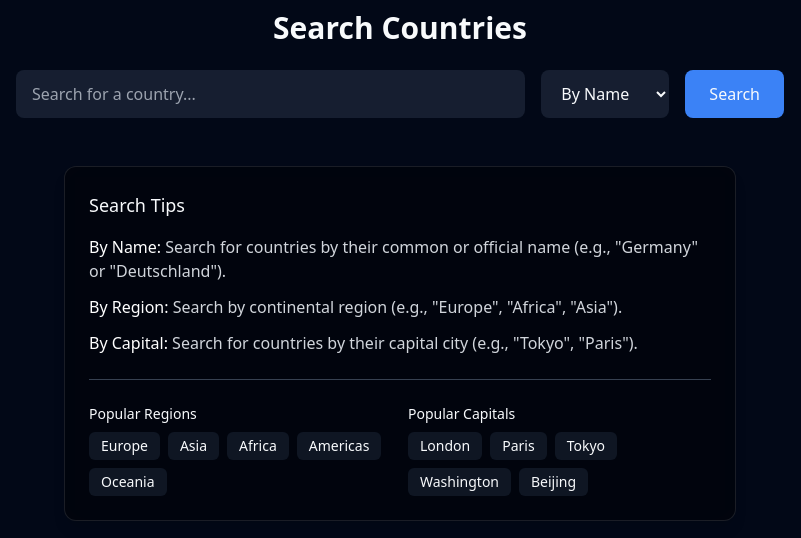
SearchPage › shows message for no results
Note: Set region and search
Type "Atlantis" into the field with placeholder "Search for a country..." at (271, 94), box x1=16 y1=70 x2=525 y2=118
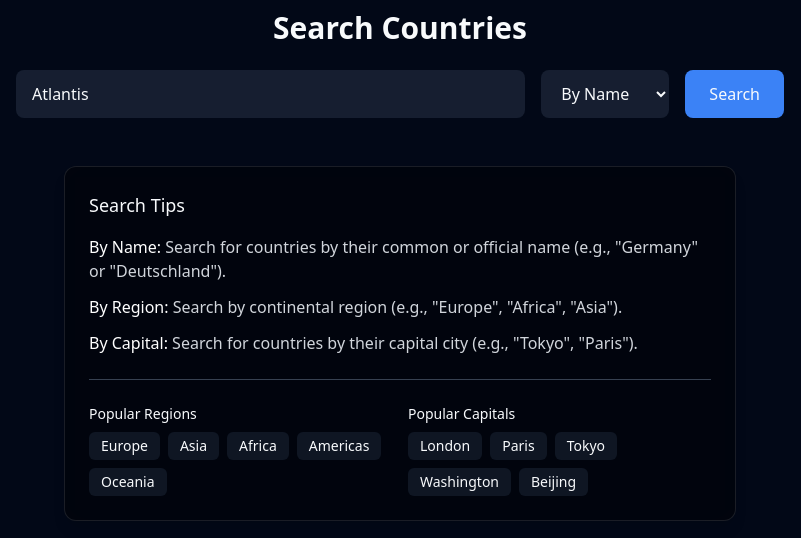
Select "By Region" in the dropdown showing "By Name" at (605, 94), box x1=541 y1=70 x2=669 y2=118
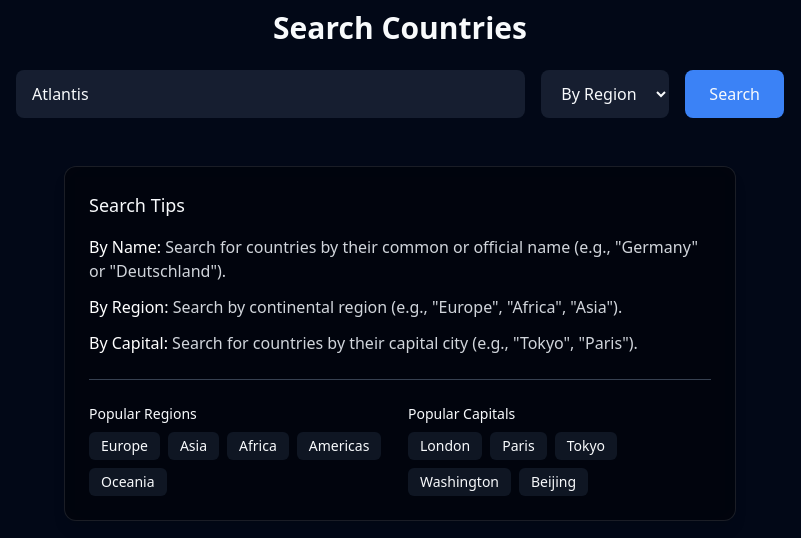
Click the button "Search" at (735, 94), box x1=685 y1=70 x2=784 y2=118
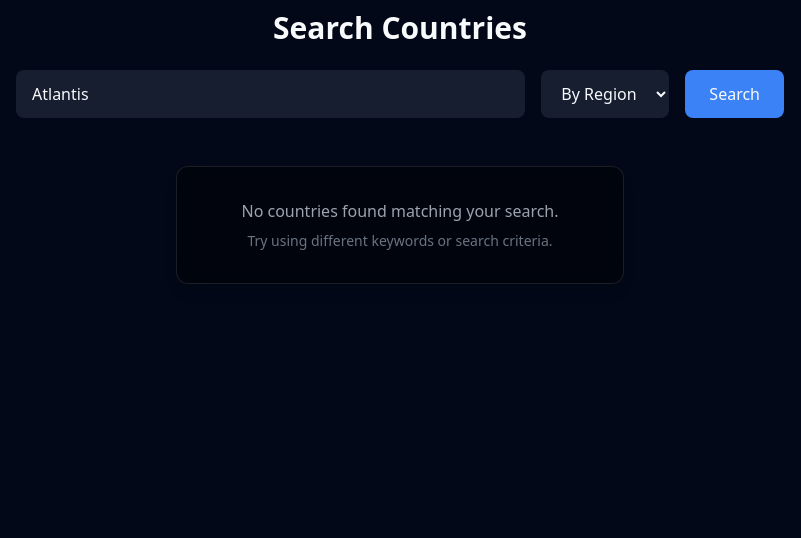
Now the text "No countries found matching your search." is shown, box x1=242 y1=200 x2=559 y2=222
